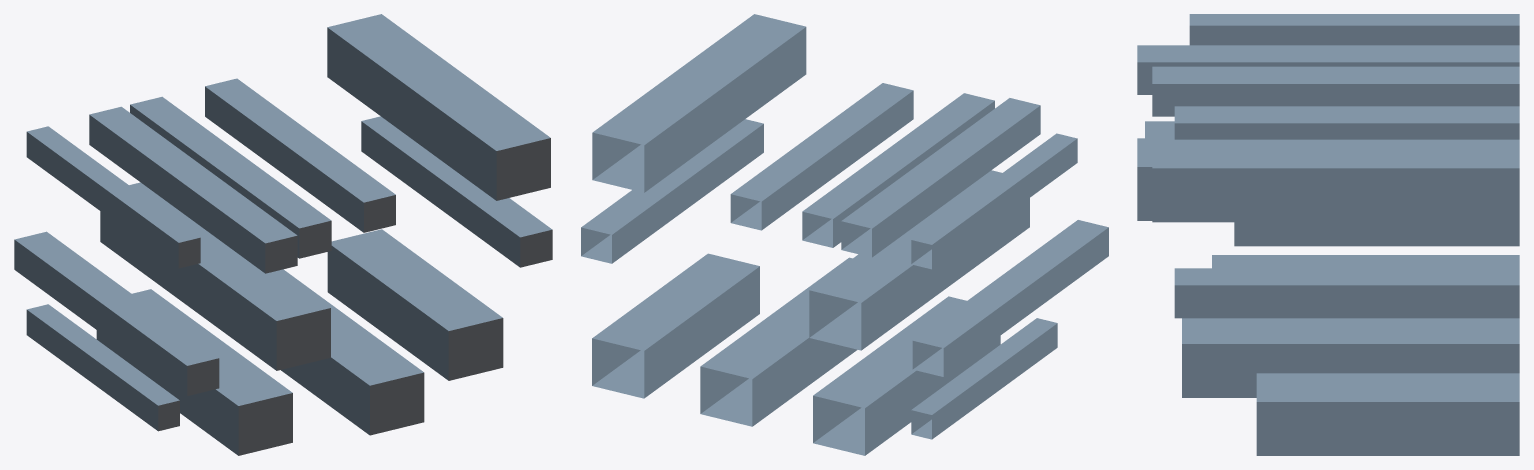
File: island_bldg_12_09.obj
3 renders of one model, left to right at view 1: azimuth 30°, elevation 25°; view 2: azimuth 150°, elevation 25°; view 3: azimuth 270°, elevation 25°, orthographic. The views are drawn at different scales.
Visible parts, largest first — view 1: island_bldg_12_09; view 2: island_bldg_12_09; view 3: island_bldg_12_09.
Boxes of the visible parts, box(x1,y1,x2,y2) form: island_bldg_12_09: box(14, 14, 552, 455); island_bldg_12_09: box(581, 14, 1108, 455); island_bldg_12_09: box(1137, 14, 1519, 455).
Size of the model in its own units: 223 by 151 by 179.
